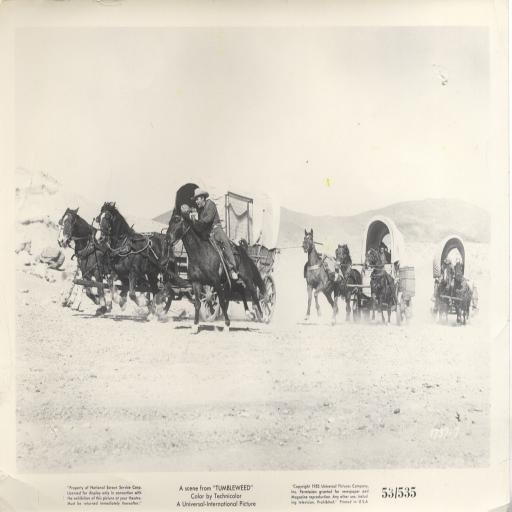horse: (164, 204, 270, 336), (94, 200, 180, 310), (58, 208, 150, 310), (300, 227, 342, 326), (329, 243, 363, 327), (362, 244, 396, 328), (451, 258, 473, 326), (434, 265, 456, 326)
